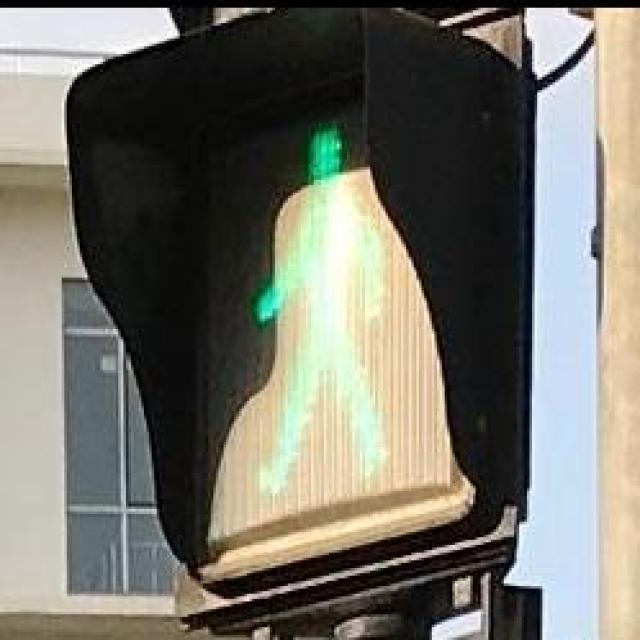geen-crossing: (164, 102, 470, 530)
